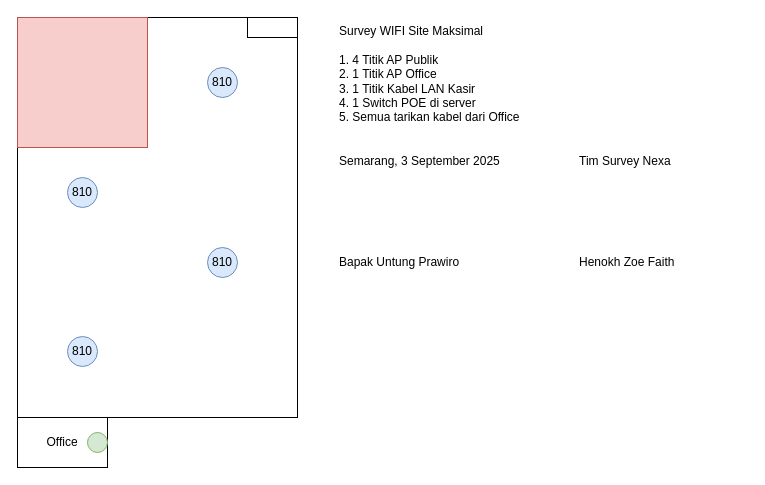
Some shapes in this 765 by 485 pixel diagram are drawn without their labels. Each missing label, with the box of its shape:
EW1200: (86, 432, 108, 452)
Kasir: (246, 16, 298, 38)
